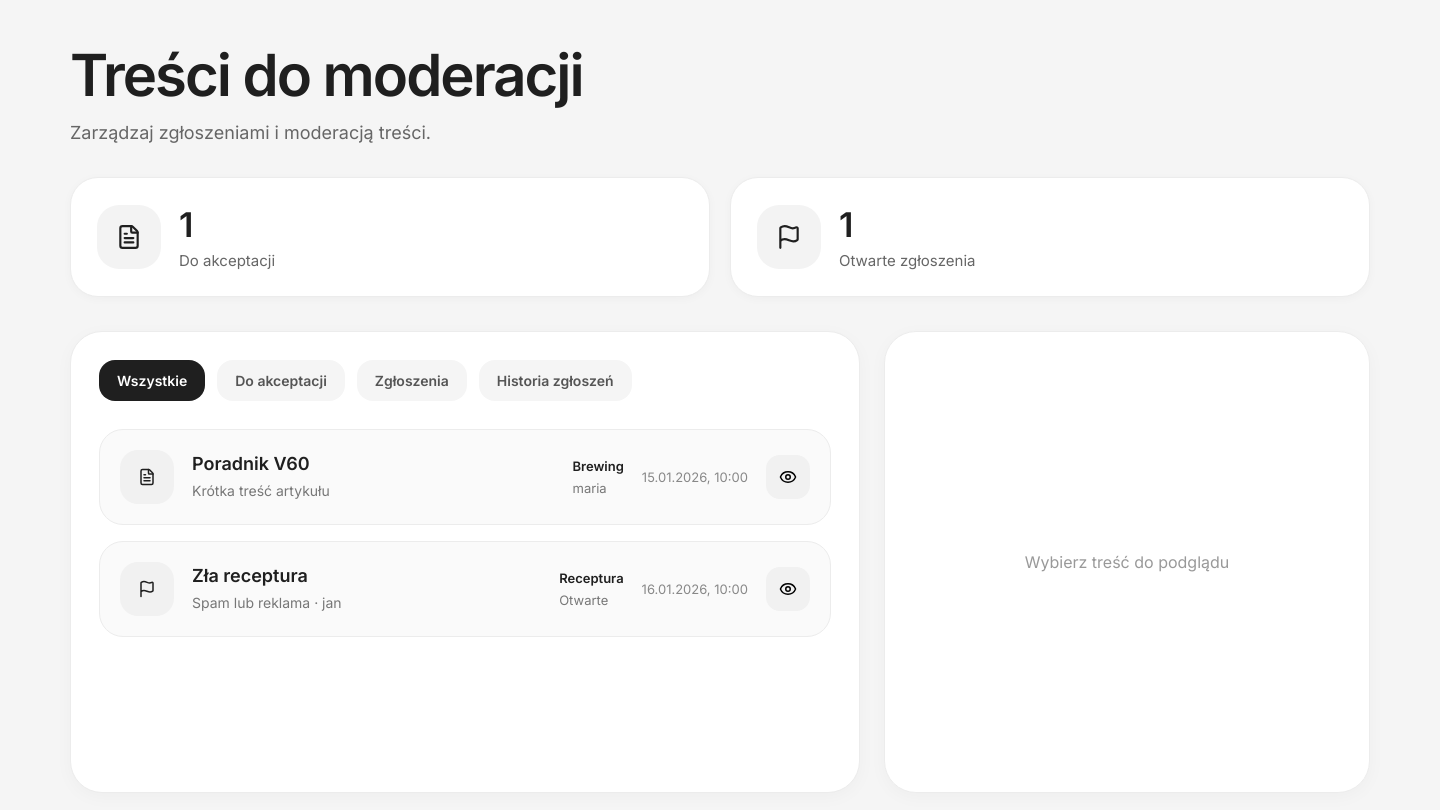
Test: AdminModeration › approves pending article
Click the heading "Poradnik V60" at coordinates (251, 464), box [192, 453, 310, 474]
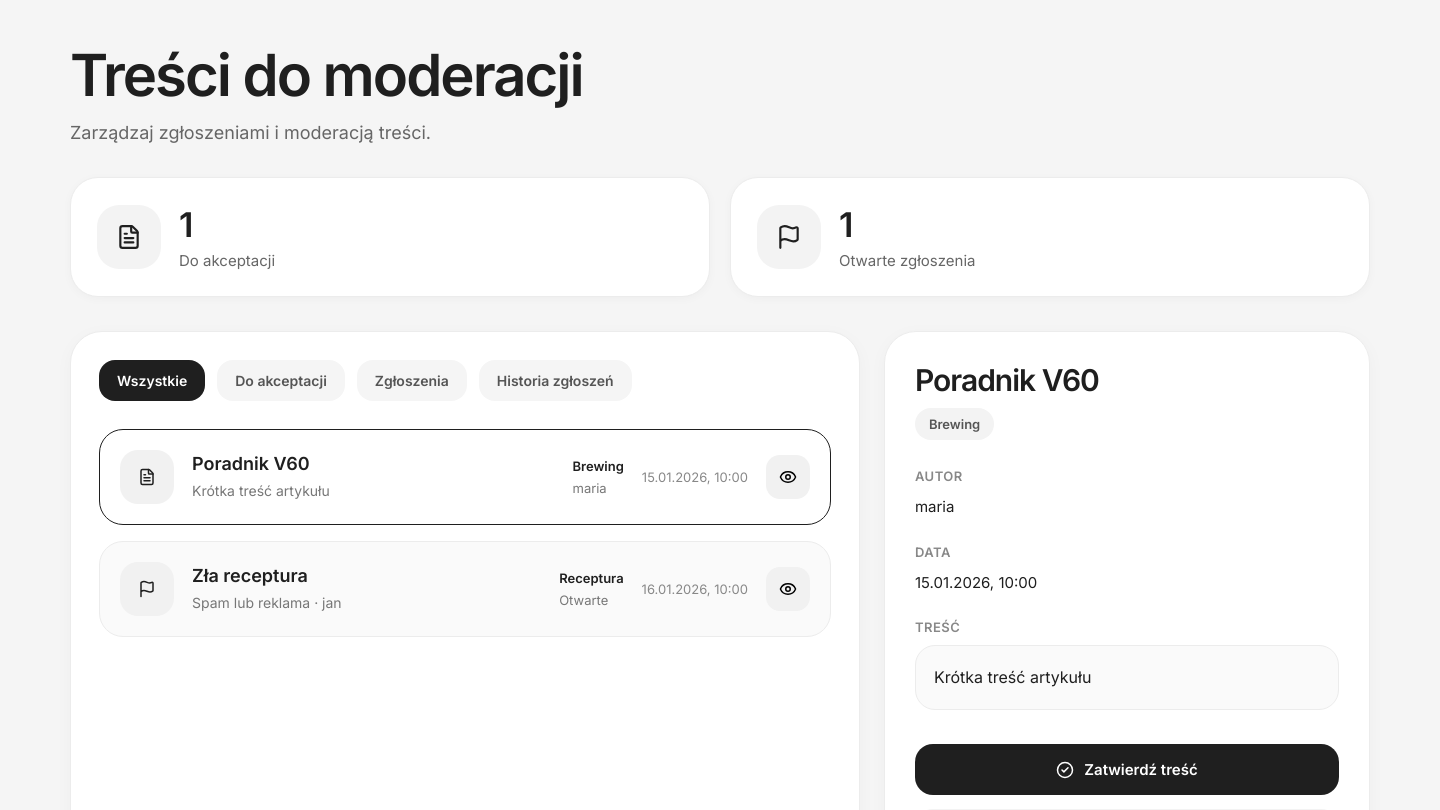
Click the button "Zatwierdź treść" at coordinates (1127, 770), box [915, 744, 1339, 795]
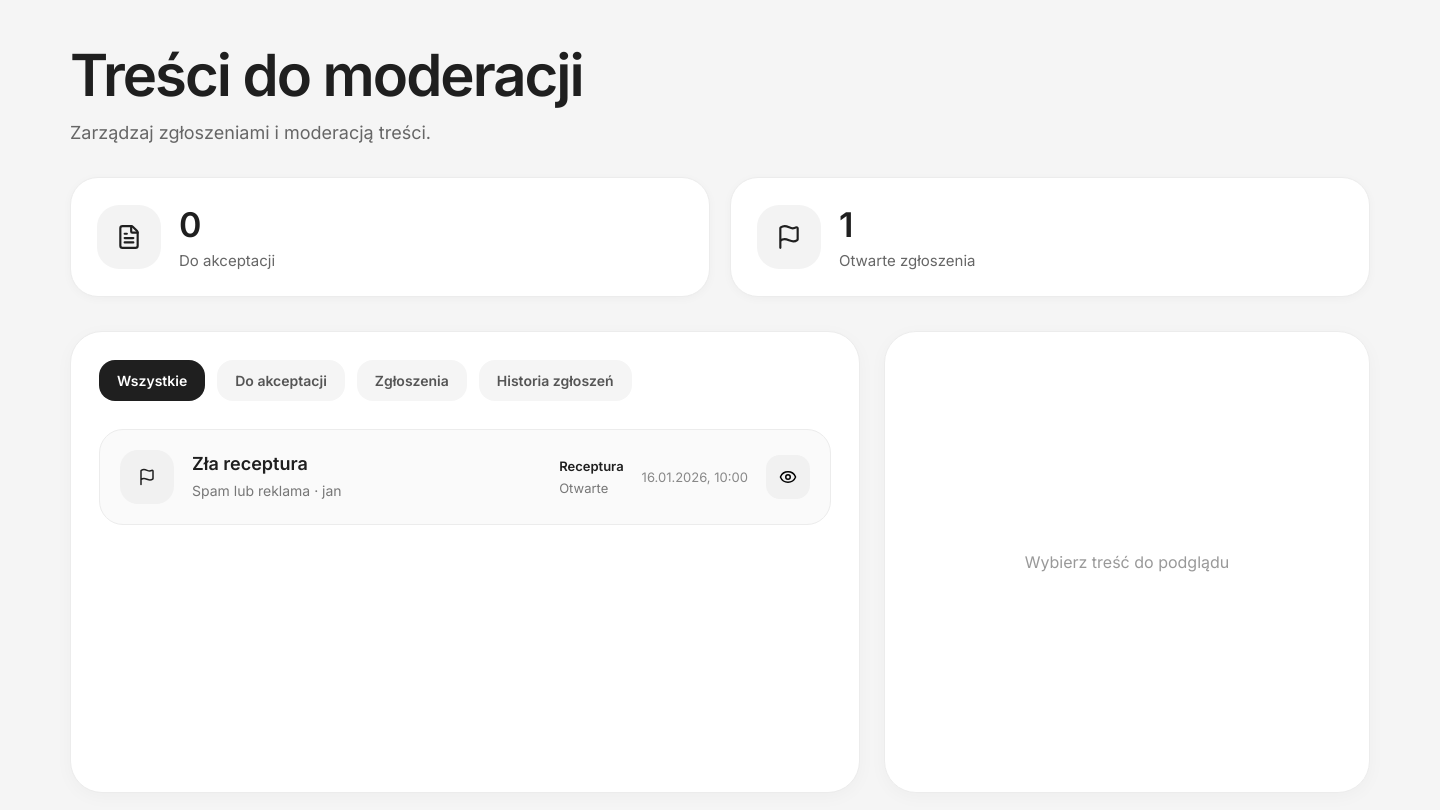
Expected: the text "Wybierz treść do podglądu" is shown, [1025, 552, 1229, 572]
